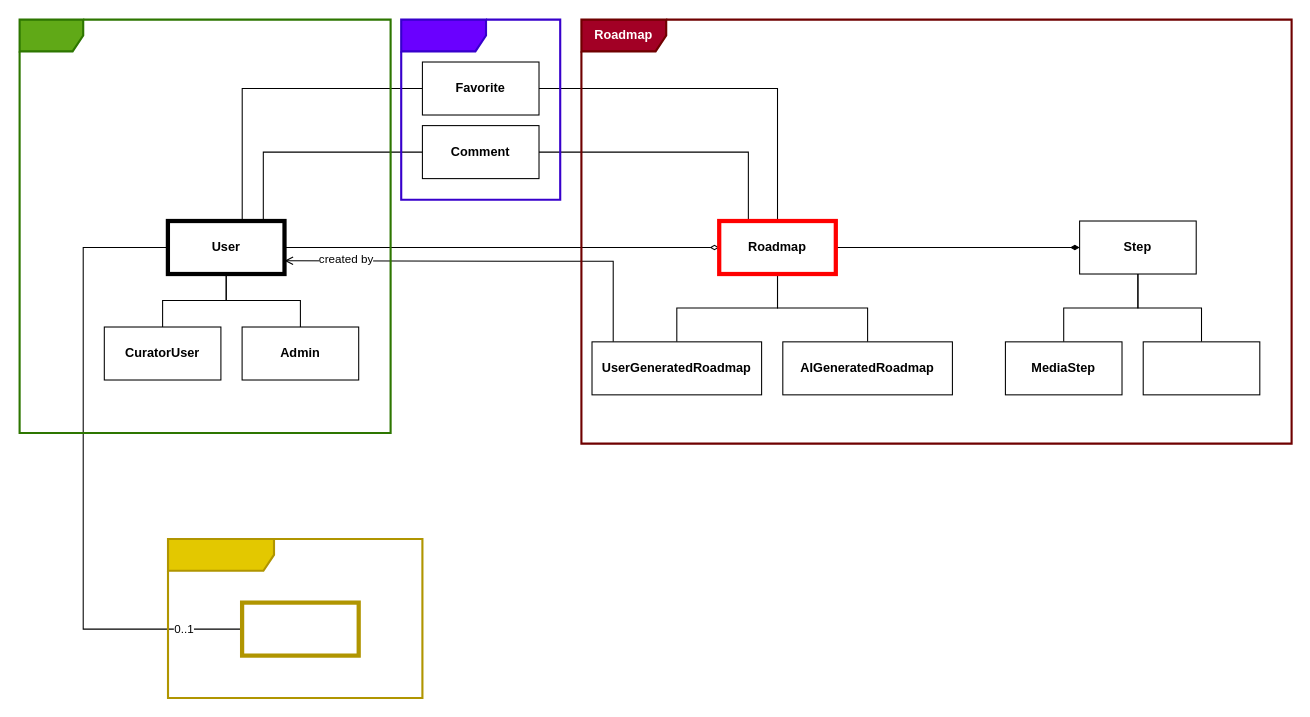
The diagram is 1310 pixels wide and 717 high, and some of its shapes have lost their labels. Here are the shapes that lost their labels. From the top down, the box of each, then its label:
(400, 18, 561, 200): Interaction
(18, 18, 391, 434): Identity
(1142, 341, 1260, 395): InfoStep
(166, 537, 423, 699): Authentication
